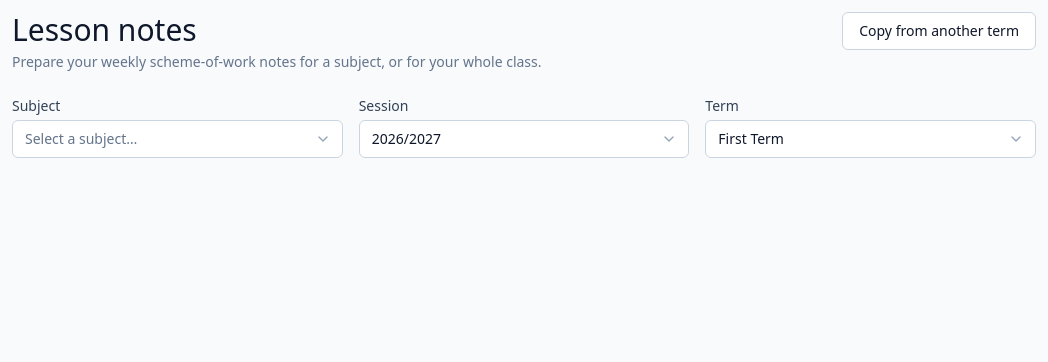
Test: LessonNotesPage › copy from another term › lists subjects under their group's non-selectable heading, ungrouped ones trailing
Click the dropdown labelled "Subject".
click(177, 139)  # box [12,120,343,158]
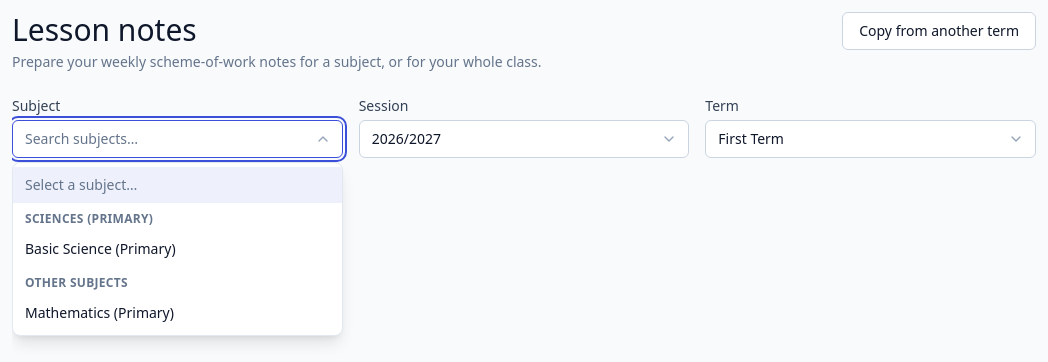
Now the option "Basic Science (Primary)" is shown, box [25,239,176,258]
Now the list "Other subjects" shows "Mathematics (Primary)", box [25,303,174,322]
